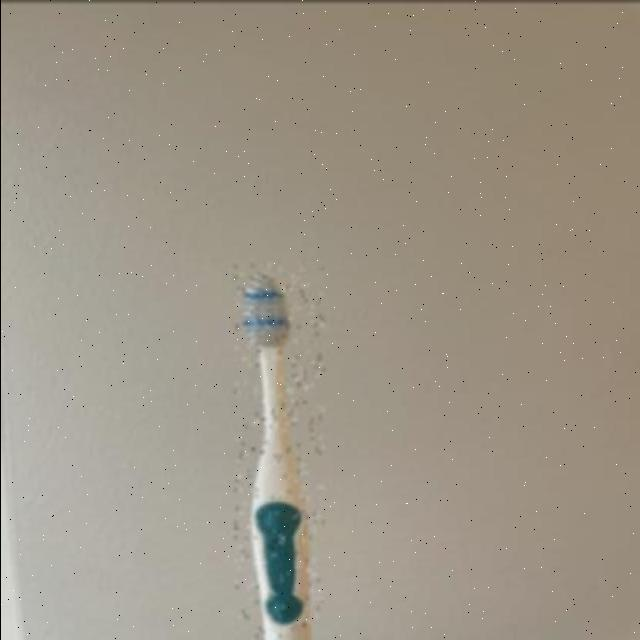toothbrush: (234, 262, 322, 640)
